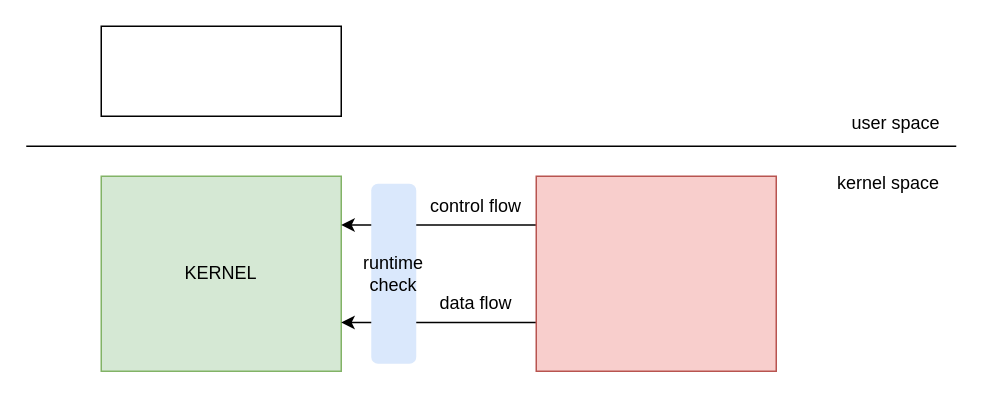
This 998x398 diagram has some shape labels left out. The shapes that lost their labels are listed below. From the top down, each one's centre as x and y in pixels, then its label:
At point (220, 70): "APPS".
At point (655, 273): "EXTENSIONS".
